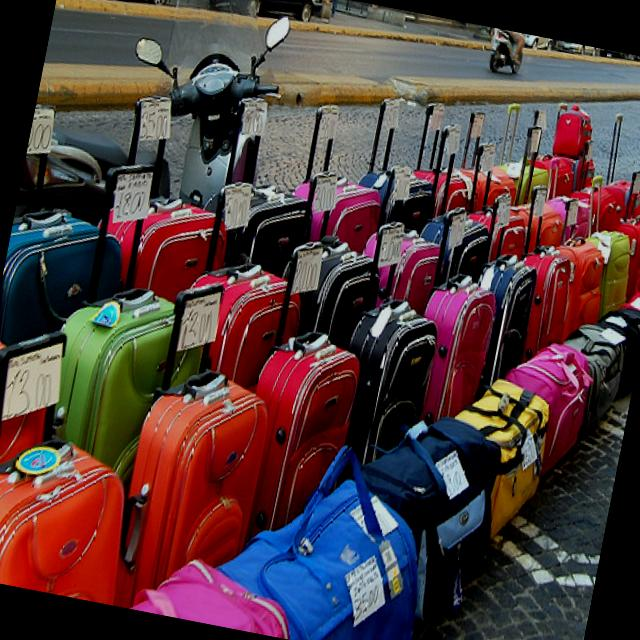Vehicle: (104, 0, 294, 228), (202, 0, 324, 28), (57, 0, 183, 18), (489, 28, 527, 76), (557, 40, 597, 59), (516, 32, 552, 52), (598, 48, 633, 62)
